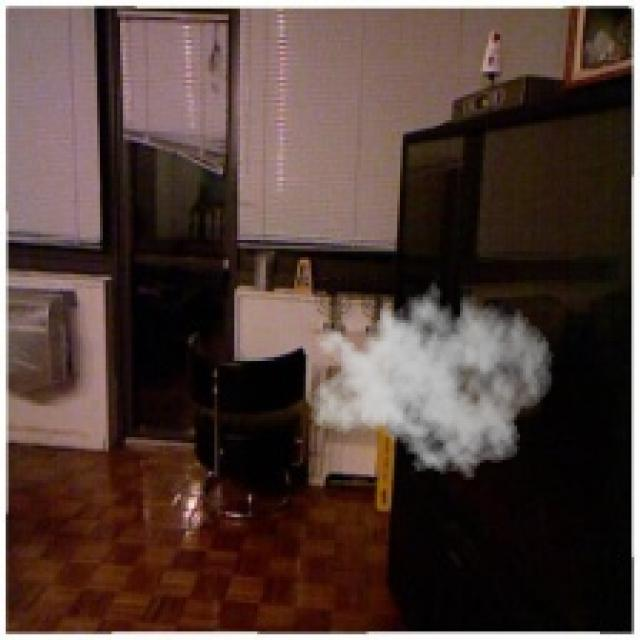smoke: (306, 271, 554, 486)
